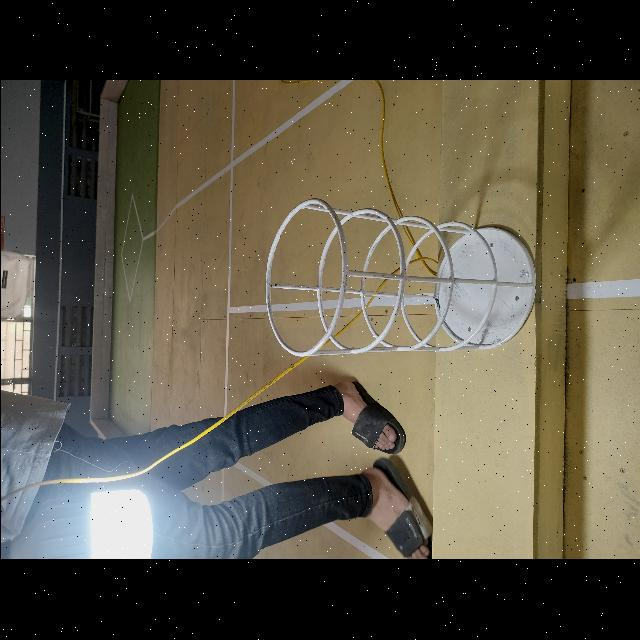S: (261, 192, 541, 363)
